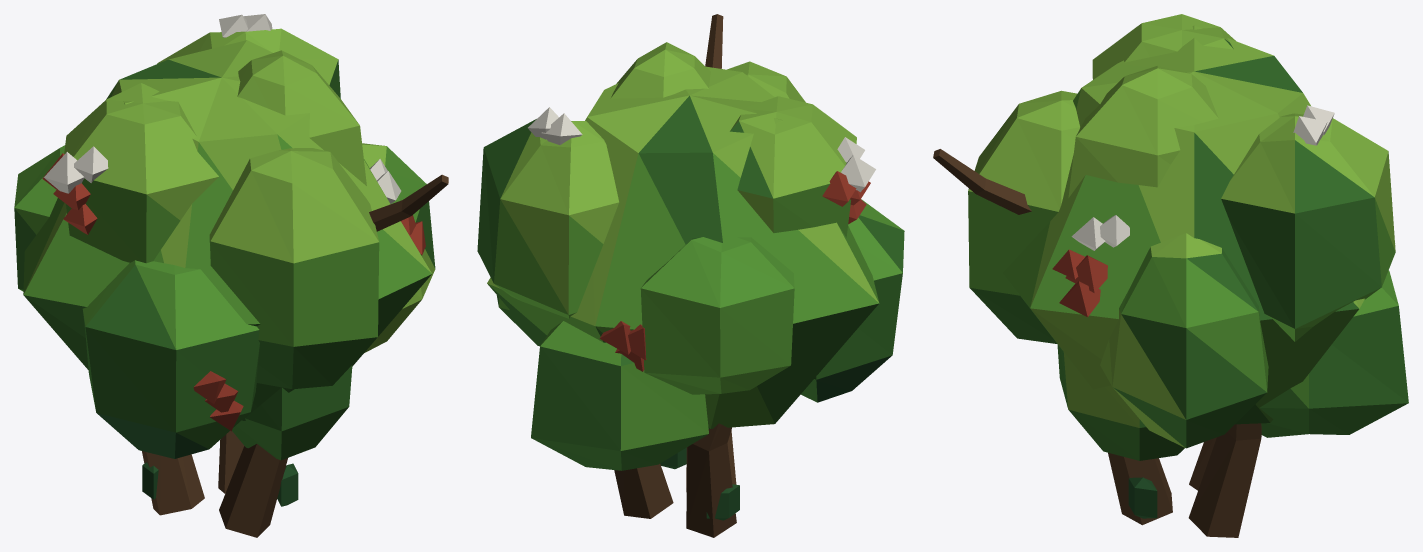
Rendered from leafy-bush-d37bba.glb.
The picture shows the model from 3 angles, left to right: view 1: azimuth 30°, elevation 25°; view 2: azimuth 150°, elevation 25°; view 3: azimuth 270°, elevation 25°; orthographic projection. The views are drawn at different scales.
Parts seen in each view (by area): view 1: leafy-bush-mesh; view 2: leafy-bush-mesh; view 3: leafy-bush-mesh.
Part boxes in pixels (box(x1,y1,x2,y2)): leafy-bush-mesh: box(14, 14, 448, 537); leafy-bush-mesh: box(477, 14, 904, 537); leafy-bush-mesh: box(933, 14, 1408, 537).
Bounding box in the file's own units: 0.973 × 1.05 × 0.9644.
